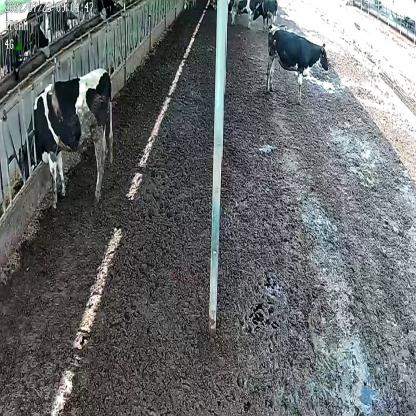cow: (16, 70, 114, 200), (266, 21, 330, 104), (229, 0, 260, 30), (253, 0, 278, 29)
